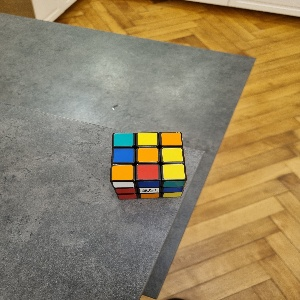cube: (111, 131, 187, 200)
